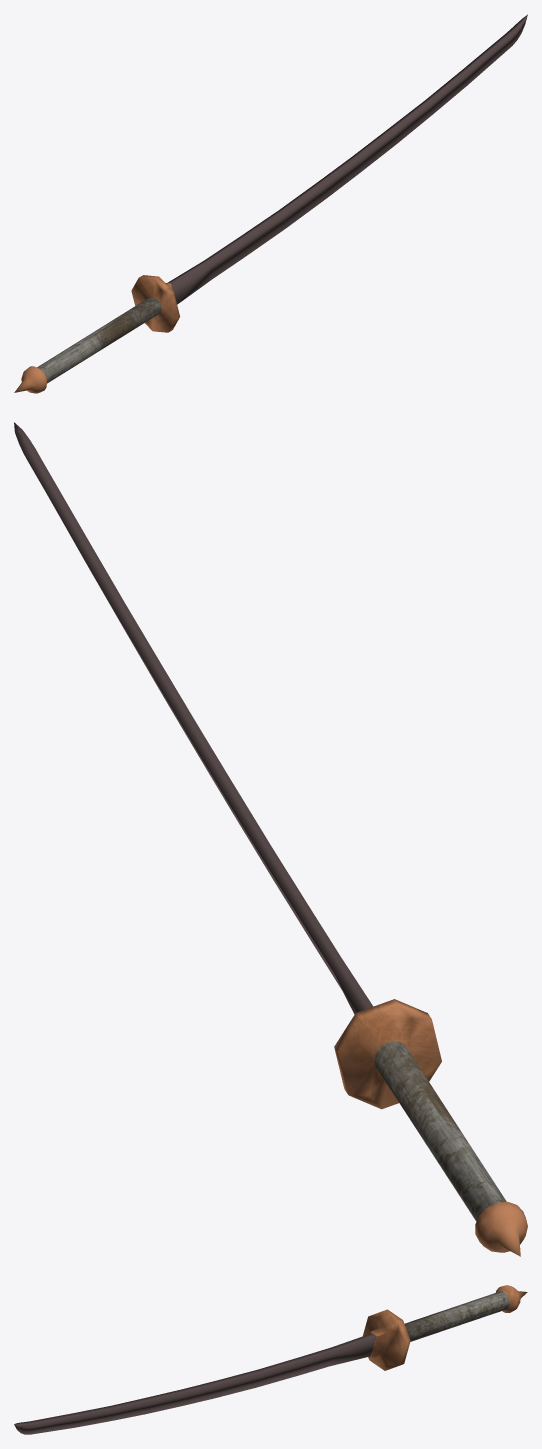
Rendered from Anim_idle_katana_objetos.0040.obj.
3 views of the same model, one above another, from view 1: azimuth 90°, elevation 25°; view 2: azimuth 150°, elevation 25°; view 3: azimuth 270°, elevation 25° (orthographic). The views are drawn at different scales.
Parts seen in each view (by area): view 1: Katana1; view 2: Katana1; view 3: Katana1.
Part boxes in pixels (x1,y1,x2,y2): Katana1: [14, 14, 527, 393]; Katana1: [14, 422, 527, 1256]; Katana1: [14, 1285, 527, 1434].
Size of the model in its own units: 4.02 by 0.9744 by 3.42.
